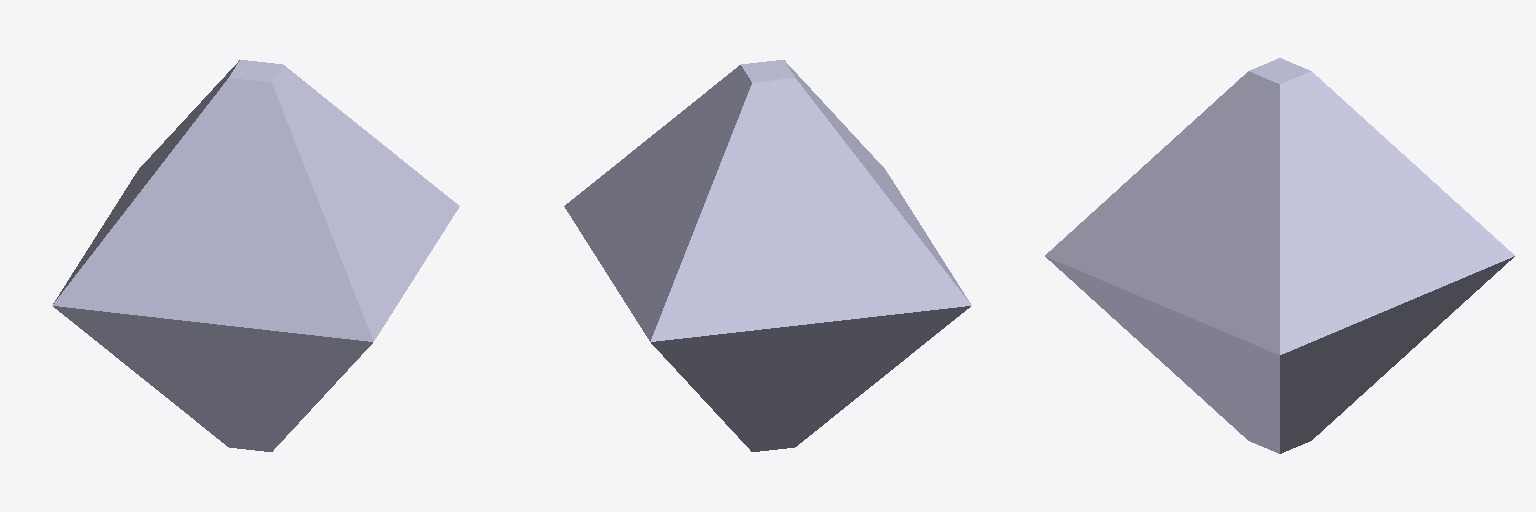
Rendered from alexandrite.obj.
The picture shows the model from 3 angles: view 1: azimuth 30°, elevation 25°; view 2: azimuth 150°, elevation 25°; view 3: azimuth 270°, elevation 25°; orthographic projection.
Size of the model in its own units: 1.39 by 1.2 by 1.39.